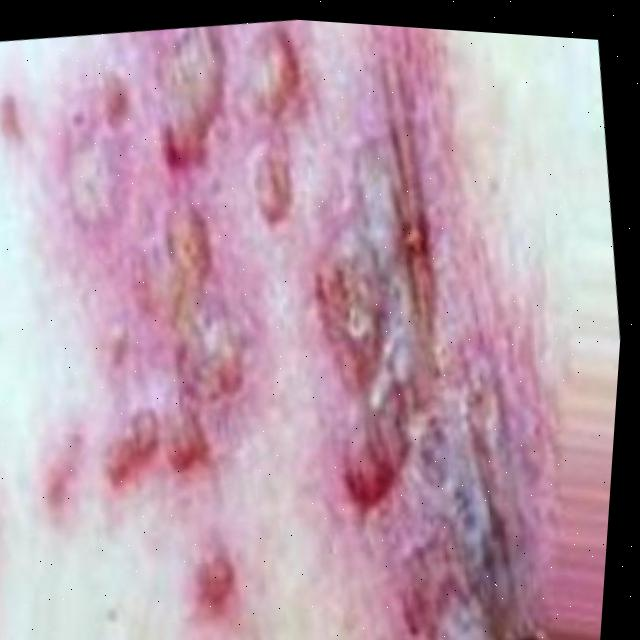Shingles: (0, 2, 596, 640)
